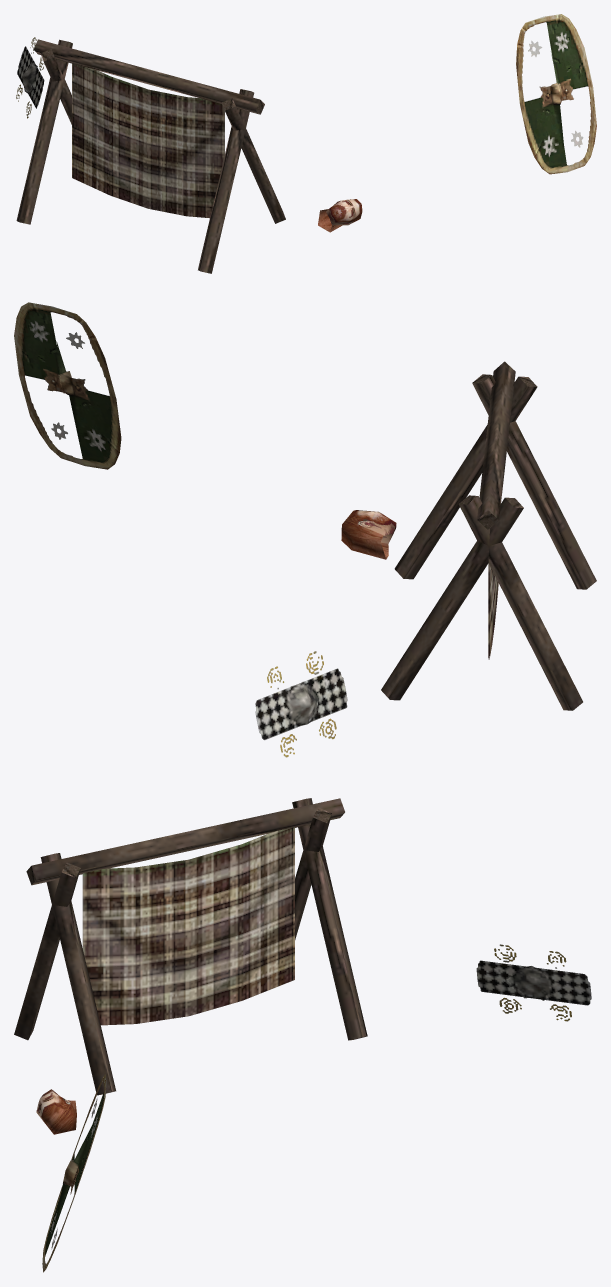
Rendered from celt_house_b_shields.dae.
3 views of the same model, one above another, from view 1: azimuth 30°, elevation 25°; view 2: azimuth 150°, elevation 25°; view 3: azimuth 270°, elevation 25° (orthographic). The views are drawn at different scales.
Parts seen in each view (by area): view 1: Plane13; view 2: Plane13; view 3: Plane13.
Part boxes in pixels (left/top/right/bottom): Plane13: left=16, top=14, right=596, bottom=273; Plane13: left=14, top=302, right=596, bottom=757; Plane13: left=14, top=798, right=591, bottom=1272.
Size of the model in its own units: 9.66 by 7.44 by 2.95.
